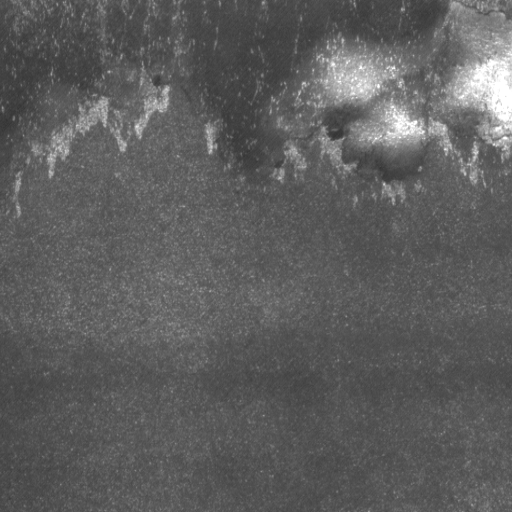qiaopi: (318, 1, 512, 188)
